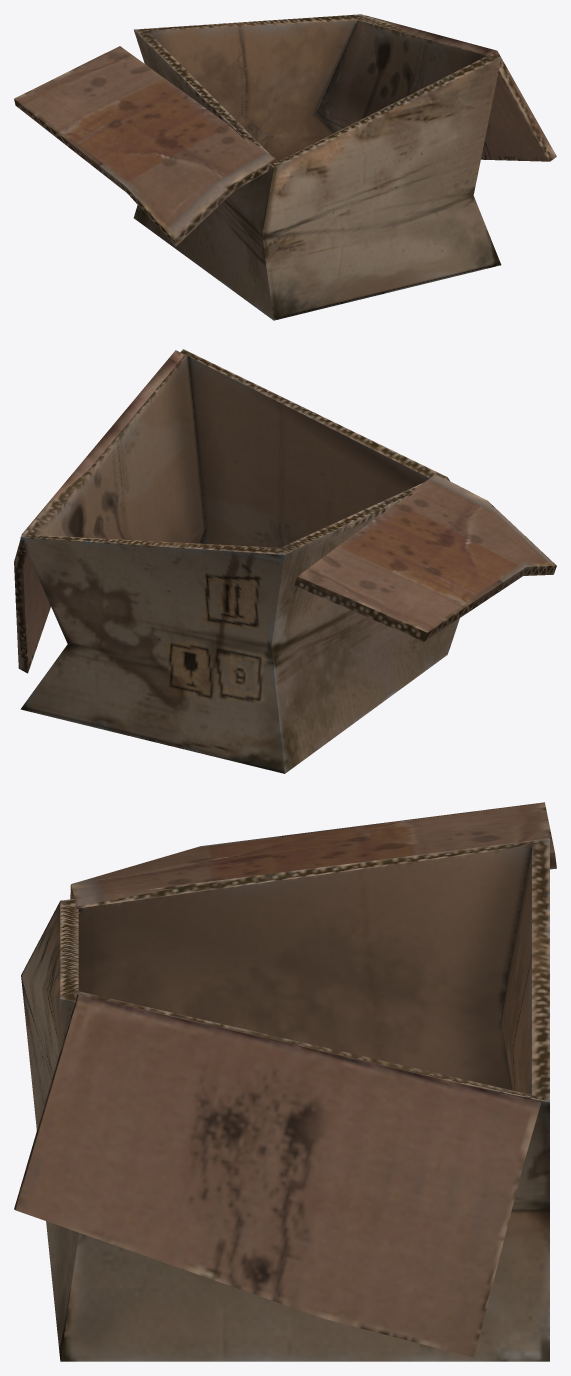
File: SM_Trash_box_3.FBX
3 views of the same model, one above another, from view 1: azimuth 30°, elevation 25°; view 2: azimuth 150°, elevation 25°; view 3: azimuth 270°, elevation 25° (orthographic). The views are drawn at different scales.
Parts seen in each view (by area): view 1: Trash_box_3; view 2: Trash_box_3; view 3: Trash_box_3.
Boxes of the visible parts, <box> form: Trash_box_3: <box>14,14,556,320</box>; Trash_box_3: <box>14,349,556,773</box>; Trash_box_3: <box>14,802,556,1361</box>.
Bounding box in the file's own units: 33.17 × 22.81 × 17.04.
